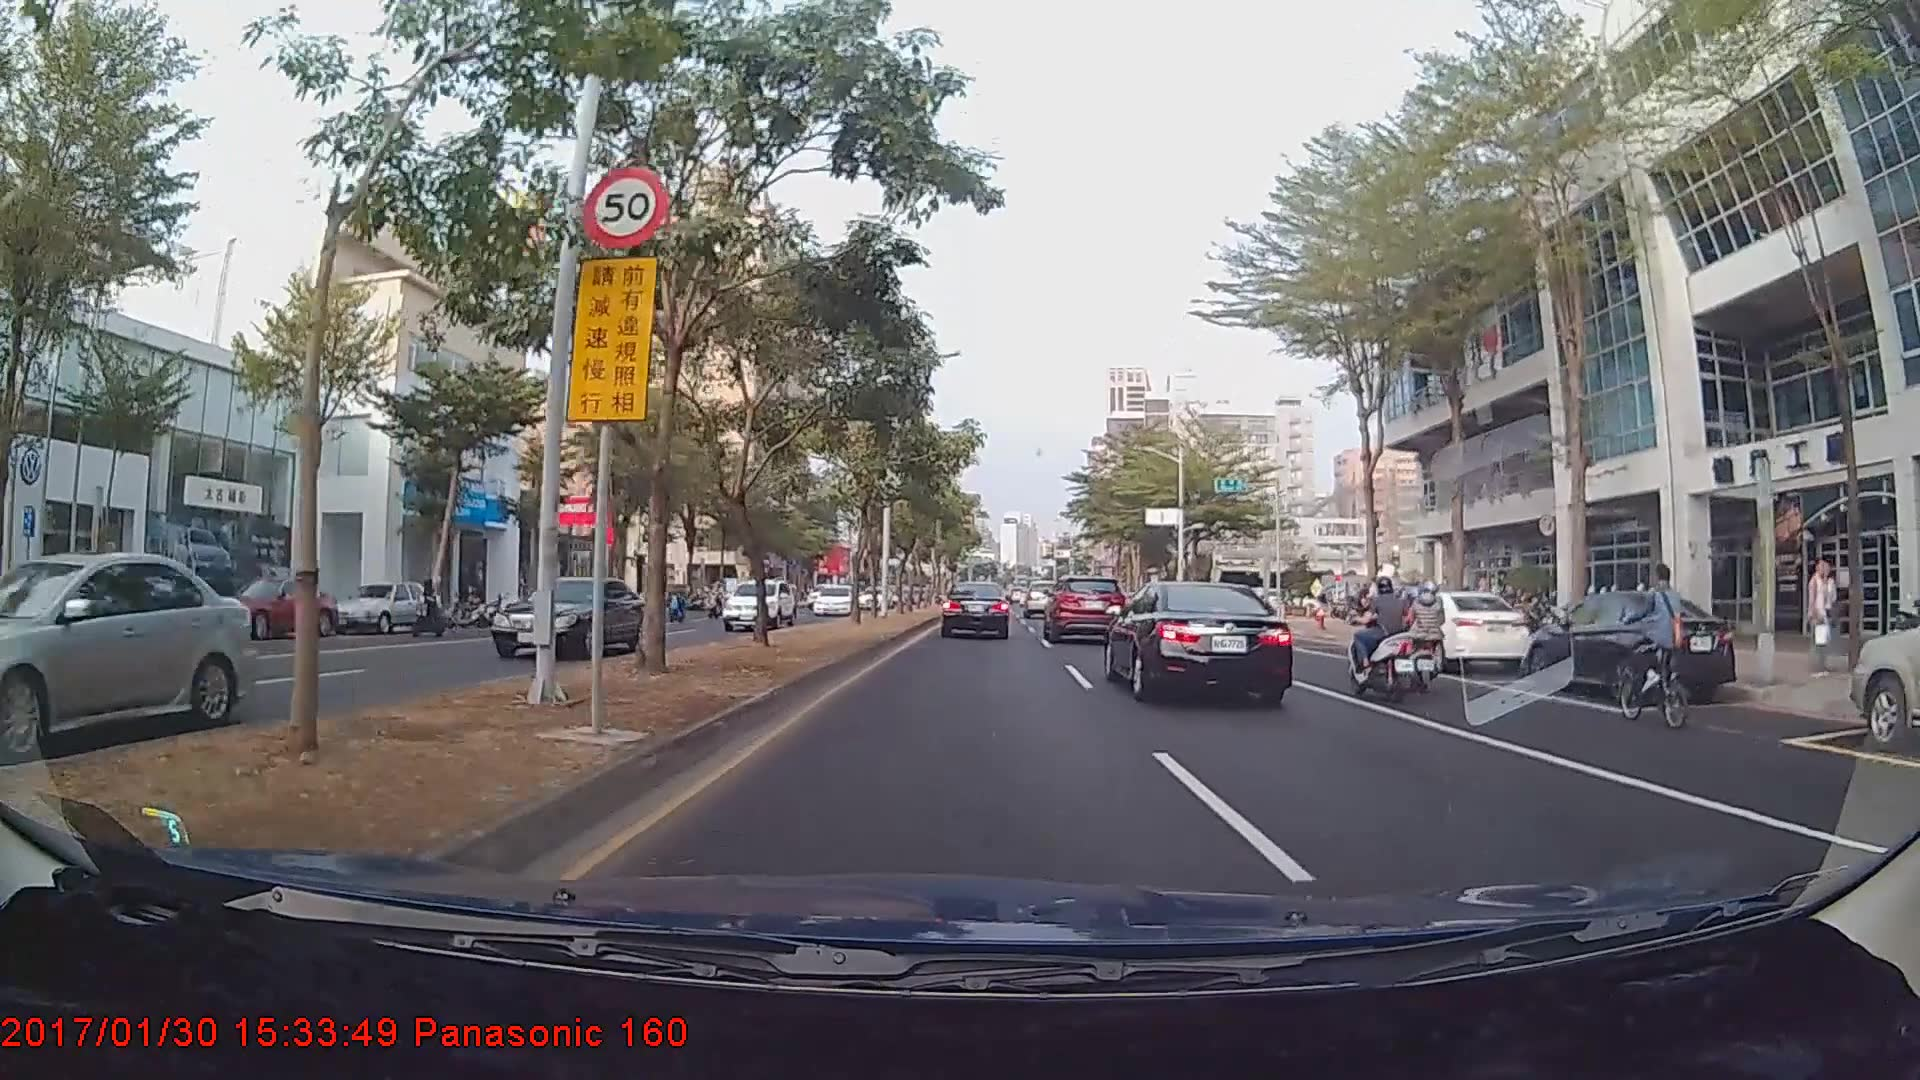pedestrian: (1807, 563, 1836, 680)
rider: (1607, 569, 1703, 737), (1345, 573, 1431, 708), (1399, 579, 1453, 687)
vehicle: (0, 548, 255, 762), (1530, 584, 1738, 705), (1106, 573, 1293, 706), (488, 572, 652, 661), (1380, 590, 1530, 674), (1848, 589, 1920, 753), (207, 576, 336, 639), (336, 581, 437, 635), (1045, 574, 1122, 642), (939, 579, 1011, 640), (719, 576, 796, 631), (810, 582, 854, 617), (1022, 579, 1062, 618)
